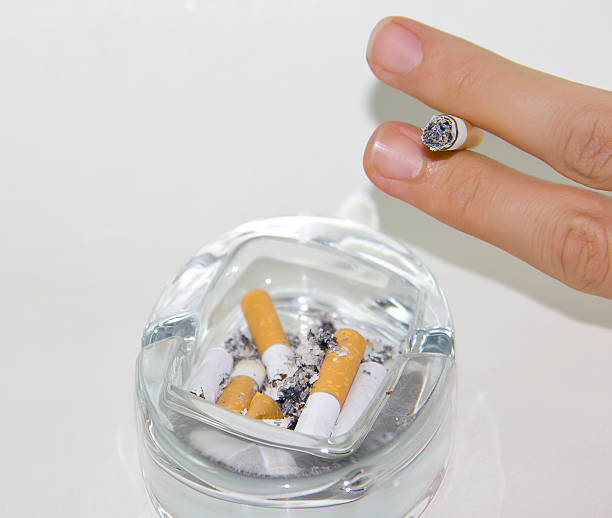cigarette: (293, 326, 368, 439), (240, 287, 296, 382), (329, 358, 389, 435), (180, 345, 234, 407), (418, 109, 483, 155), (217, 356, 268, 414), (244, 388, 284, 420)
